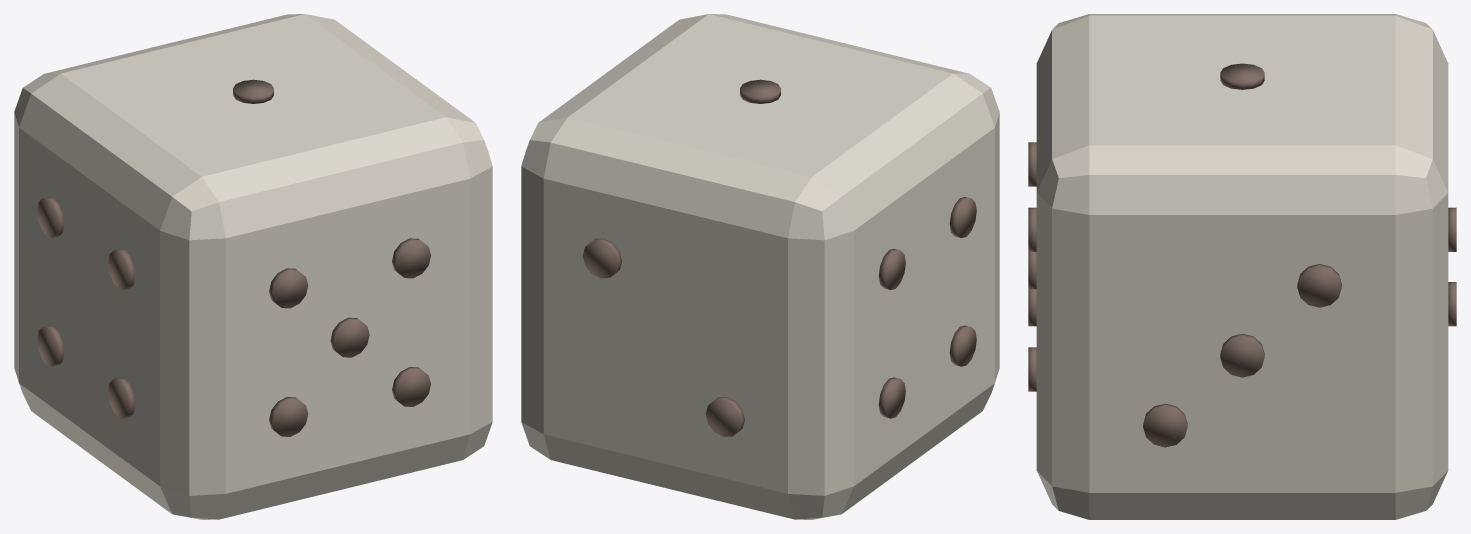
Rendered from wormhole-die.glb.
3 views of the same model, side by side, from view 1: azimuth 30°, elevation 25°; view 2: azimuth 150°, elevation 25°; view 3: azimuth 270°, elevation 25° (orthographic). The views are drawn at different scales.
Visible parts, largest first — view 1: mesh_wormhole_die_body, mesh_wormhole_die_pips; view 2: mesh_wormhole_die_body, mesh_wormhole_die_pips; view 3: mesh_wormhole_die_body, mesh_wormhole_die_pips.
Boxes of the visible parts, x1,y1,x2,y2 form: mesh_wormhole_die_body: (14,14,492,519); mesh_wormhole_die_pips: (37,79,430,436); mesh_wormhole_die_body: (521,14,999,519); mesh_wormhole_die_pips: (583,79,976,436); mesh_wormhole_die_body: (1036,14,1448,519); mesh_wormhole_die_pips: (1028,63,1456,447).
Size of the model in its own units: 0.612 by 0.612 by 0.612.
